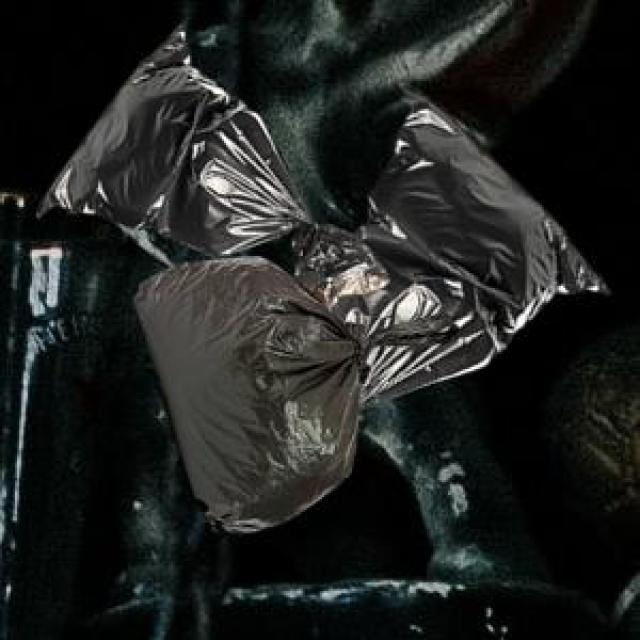Trashbag: (132, 247, 380, 546), (32, 21, 308, 260)
